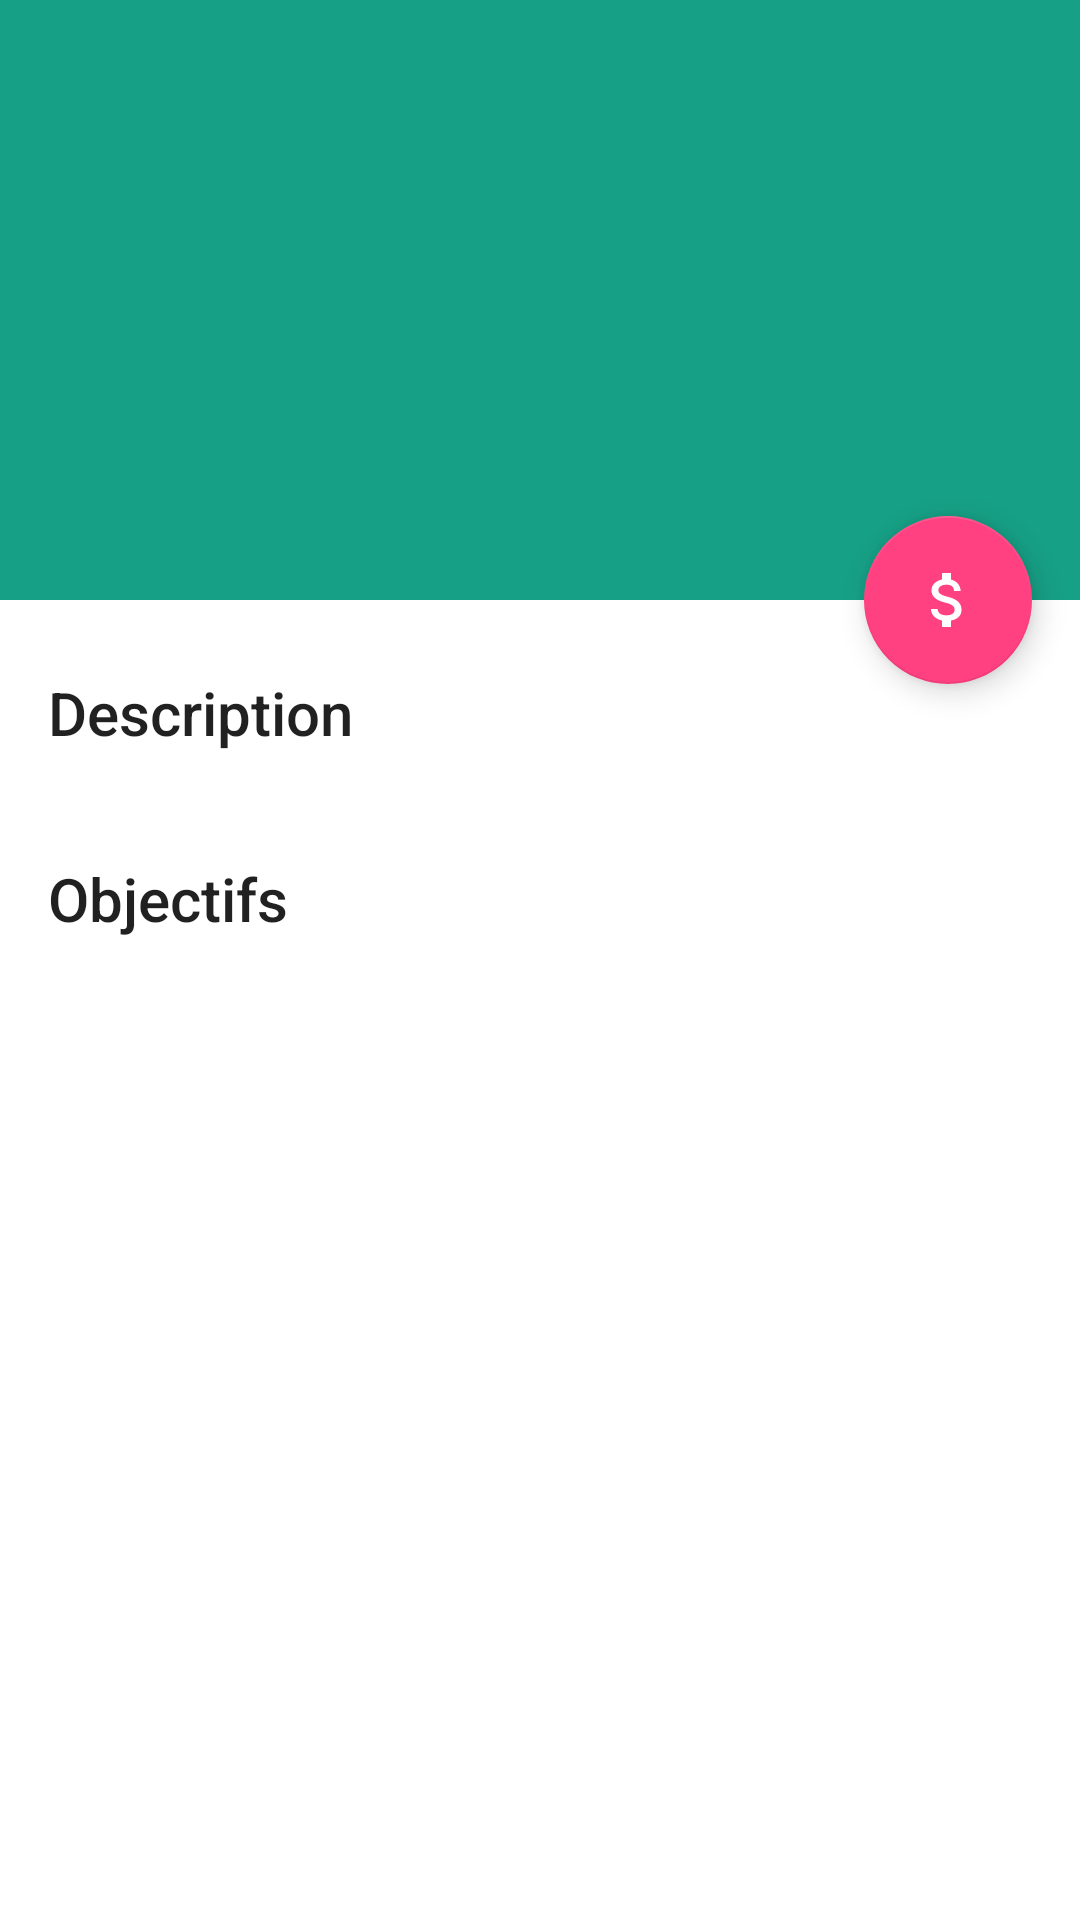

Icon click points for this 1080x1920 phone screenshot, format (x=x, y=y):
donate: (x=948, y=600)
